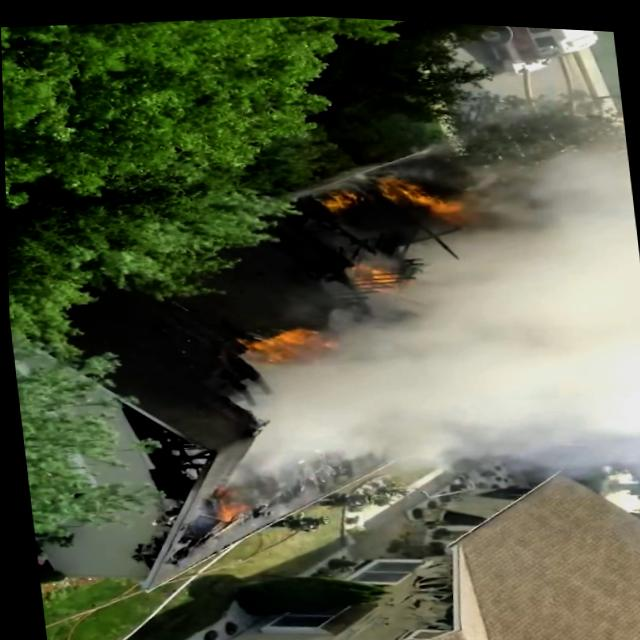smoke: (471, 165, 640, 410), (332, 327, 640, 449)
